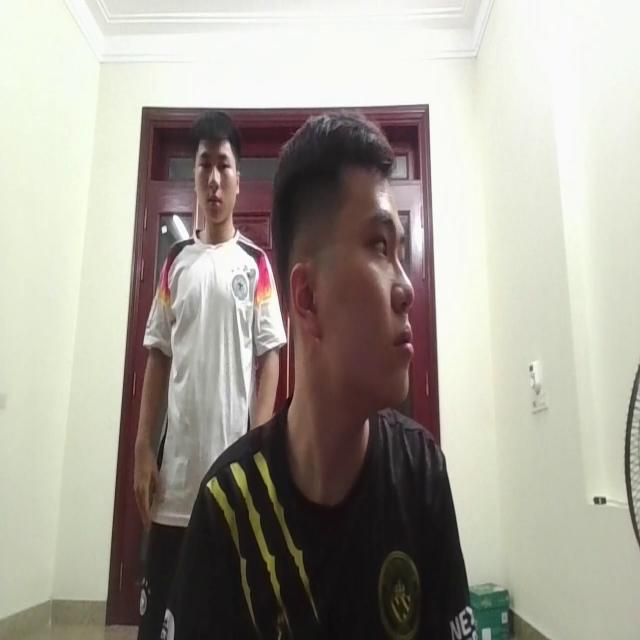extra_person: (138, 89, 282, 531)
student: (209, 88, 450, 640)
